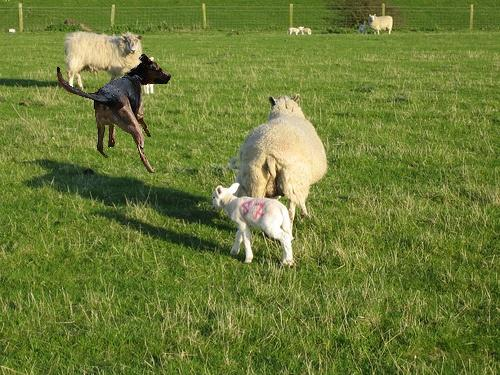tampered: (58, 55, 171, 173)
